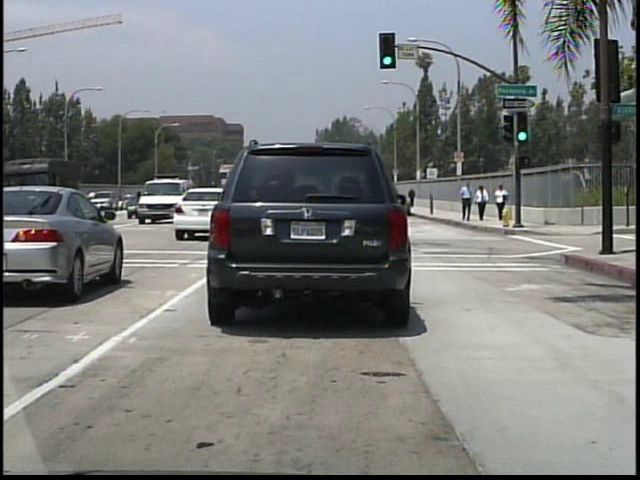person: (458, 179, 475, 223), (475, 185, 490, 222), (493, 184, 507, 213), (409, 186, 417, 208)
